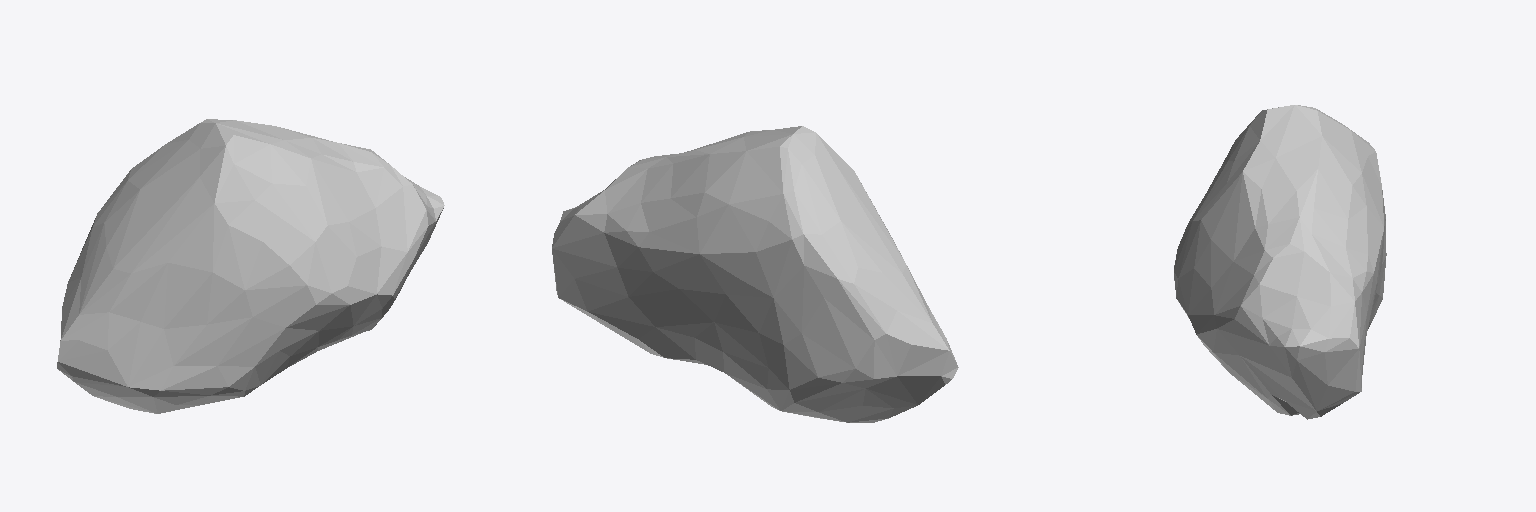
The model's file is Rock3.obj.
3 renders of one model, left to right at view 1: azimuth 30°, elevation 25°; view 2: azimuth 150°, elevation 25°; view 3: azimuth 270°, elevation 25°, orthographic.
Parts seen in each view (by area): view 1: Rock3; view 2: Rock3; view 3: Rock3.
Boxes of the visible parts, box(x1,y1,x2,y2) form: Rock3: box(57, 119, 444, 413); Rock3: box(552, 126, 958, 422); Rock3: box(1174, 105, 1386, 419).
Size of the model in its own units: 18.98 by 12.63 by 9.